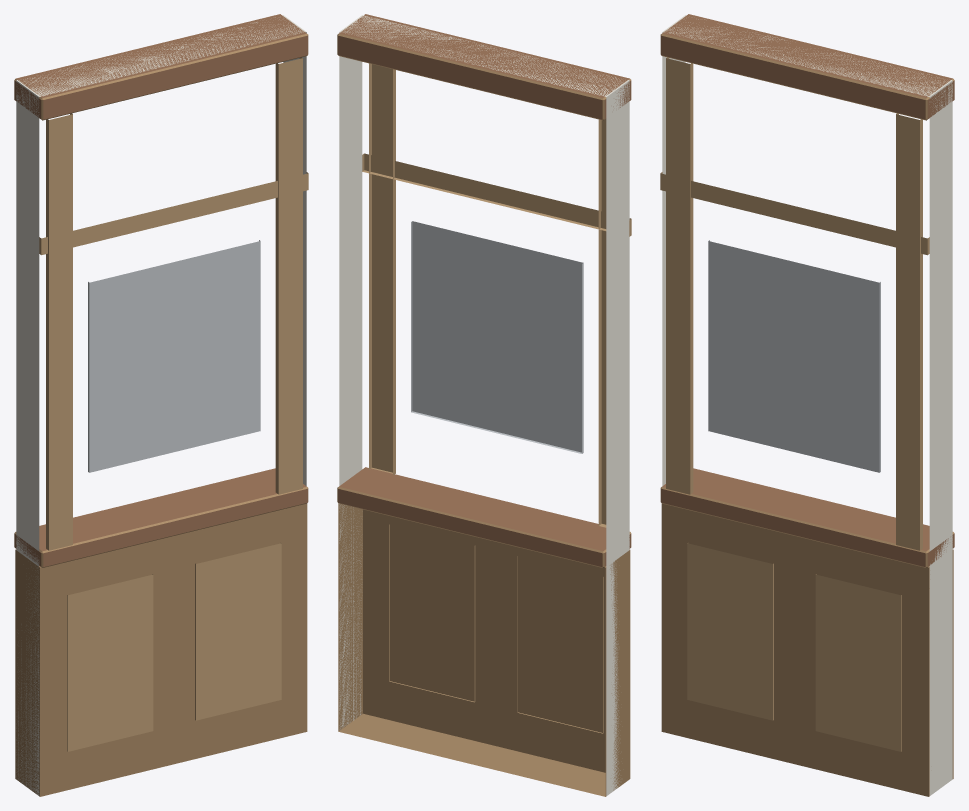
The model's file is interior_wall.glb.
3 renders of one model, left to right at view 1: azimuth 30°, elevation 25°; view 2: azimuth 150°, elevation 25°; view 3: azimuth 330°, elevation 25°, orthographic.
Parts seen in each view (by area): view 1: interior_wall_detail, interior_wall_hero; view 2: interior_wall_detail, interior_wall_hero; view 3: interior_wall_detail, interior_wall_hero.
Part boxes in pixels (x1=…): interior_wall_detail: x1=15, y1=15, x2=308, y2=796; interior_wall_hero: x1=14, y1=14, x2=308, y2=567; interior_wall_detail: x1=338, y1=15, x2=631, y2=796; interior_wall_hero: x1=337, y1=14, x2=631, y2=567; interior_wall_detail: x1=660, y1=15, x2=953, y2=796; interior_wall_hero: x1=660, y1=14, x2=954, y2=567.
Bounding box in the file's own units: 1 × 2.5 × 0.186.
